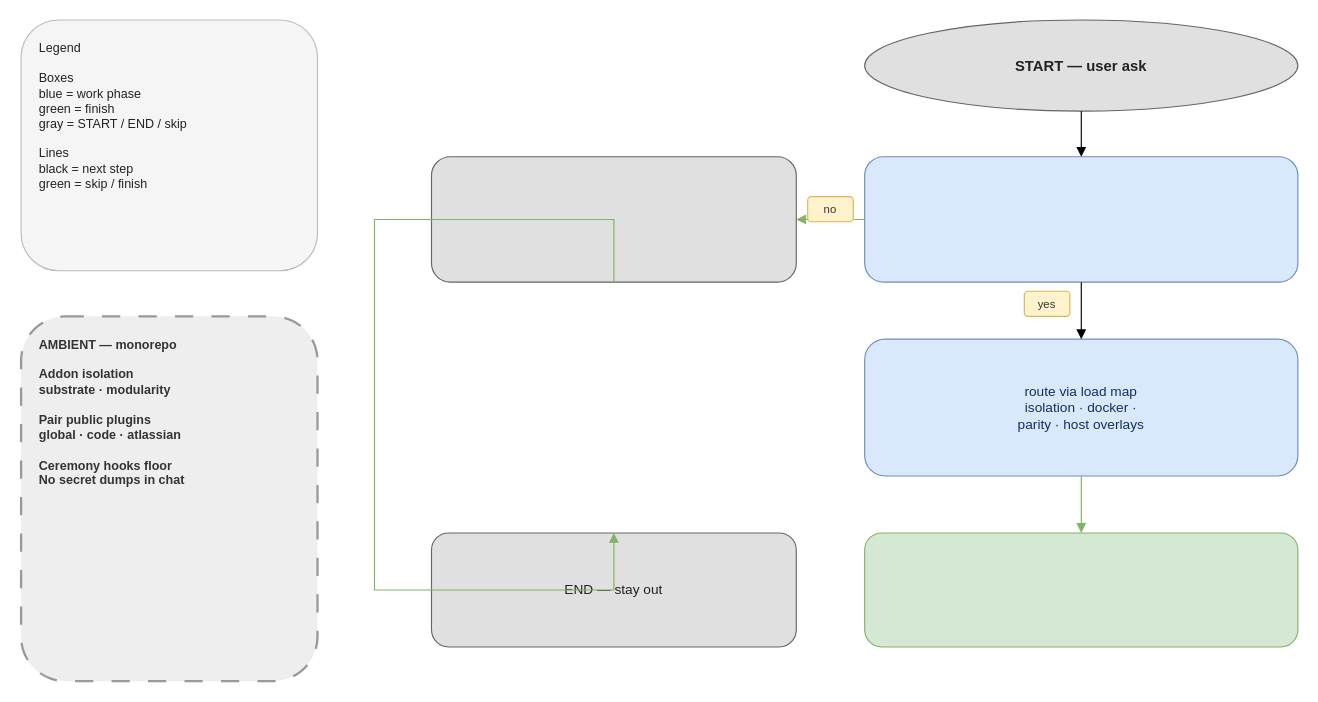
The diagram is 1318 pixels wide and 702 high, and some of its shapes have lost their labels. Here are the shapes that lost their labels. From the top down, the centre of each, then its label:
At point 613,219: "skip — not framework use other public plugins; do not invent overlays".
At point 1081,219: "gate · framework? addon / docker / parity / ceremony / monorepo ask".
At point 1081,589: "END — change + ceremony evidence".
